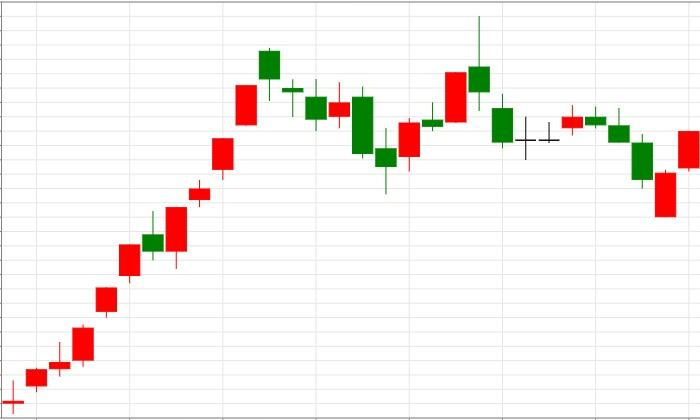shooting_star_fall: (375, 15, 490, 194)
